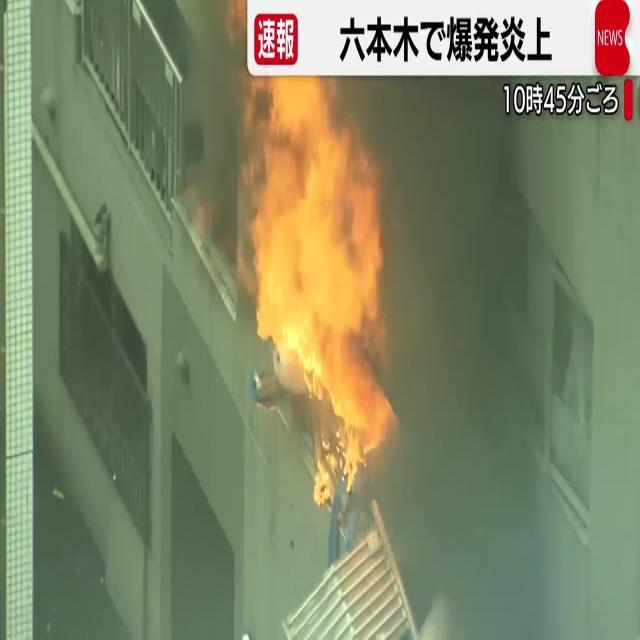Fire: (238, 76, 404, 488)
